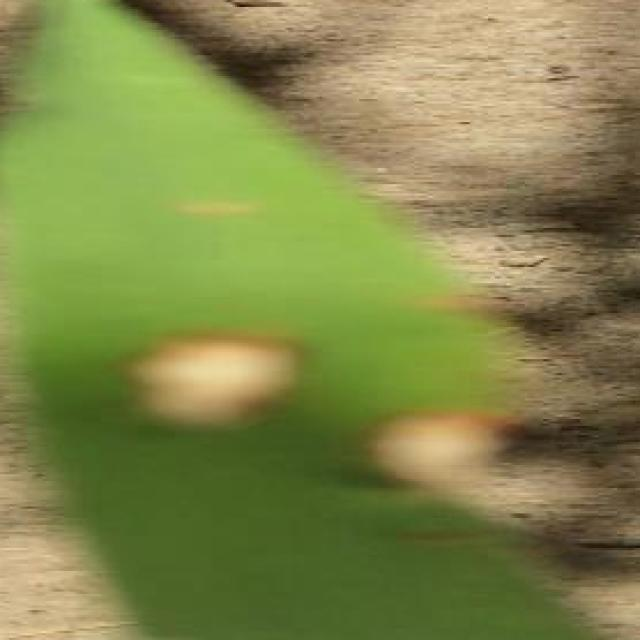Leaf_Blast: (85, 295, 341, 465), (338, 368, 544, 502)
